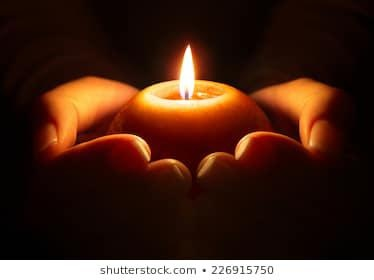fire: (177, 41, 198, 100)
